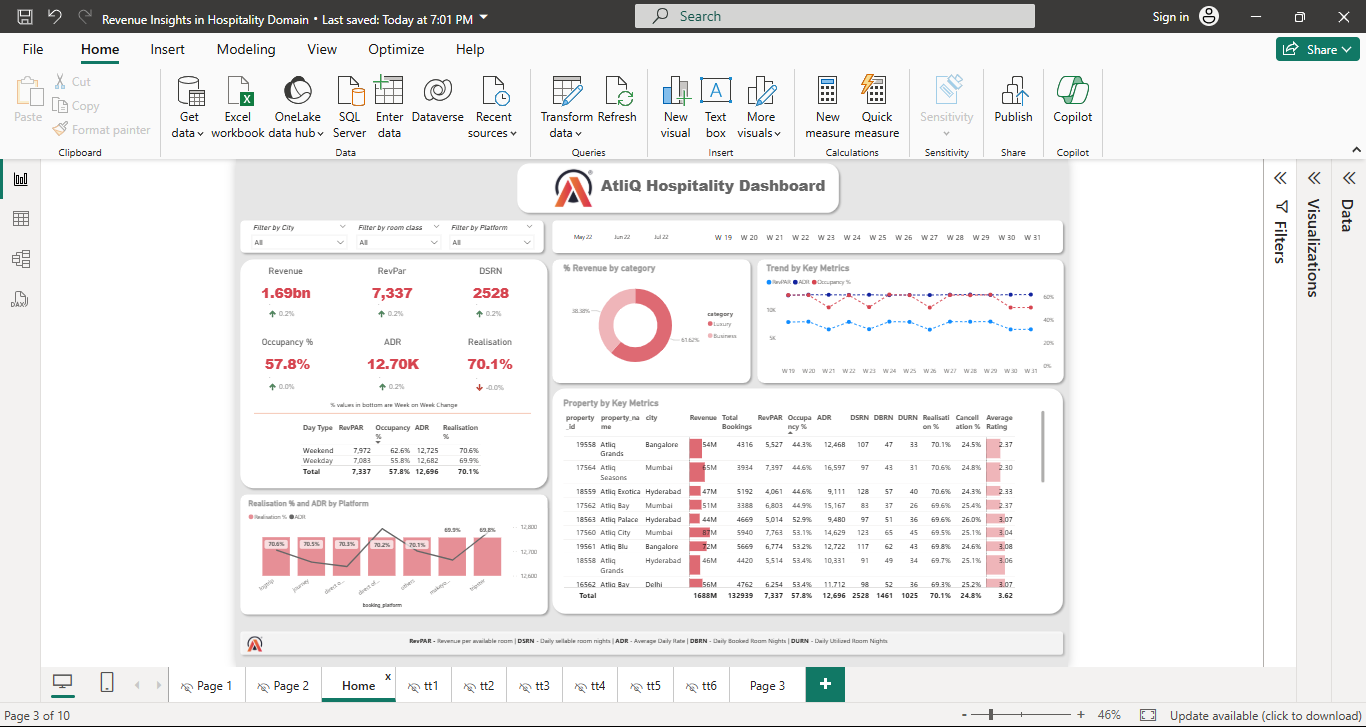

Layout of this report page (visuals, bound fields, positions):
{"tool":"powerbi","page":{"name":"Home","canvas":[1800,1100],"ordinal":2},"visuals":[{"type":"shape","box":[0.2,123.6,675.2,88.8],"z":0},{"type":"shape","box":[676,122.7,1124,89.3],"z":1000},{"type":"shape","box":[676,488,1124,506.7],"z":2000},{"type":"shape","box":[675.1,208.6,447.6,286.1],"z":3000},{"type":"shape","box":[1118.6,208.6,681.7,286.1],"z":4000},{"type":"shape","box":[0.2,207,683.4,513.9],"z":5000},{"type":"slicer","fields":{"Values":["dim_rooms.room_class"]},"box":[250.7,133.3,202.7,72],"z":6000},{"type":"slicer","fields":{"Values":["dim_hotels.city"]},"box":[24,134.7,226.7,76],"z":7000},{"type":"slicer","fields":{"Values":["dim_date.mmm yy"]},"box":[683.6,145.5,302.1,47.8],"z":8000},{"type":"card","title":"Revenue","fields":{"Values":["key_measures.Revenue"]},"box":[30.7,230.7,154.7,95.8],"z":8000,"group":"g2"},{"type":"card","title":"RevPar","fields":{"Values":["key_measures.Rev Par"]},"box":[257.9,230.7,160.2,95.8],"z":9000,"group":"g2"},{"type":"card","title":"Occupancy %","fields":{"Values":["key_measures.Occupancy %"]},"box":[14.7,386.3,192,96],"z":9000,"group":"g1"},{"type":"tableEx","title":"Property by Key Metrics","fields":{"Values":["dim_hotels.property_id","dim_hotels.property_name","dim_hotels.city","key_measures.Revenue","key_measures.Total Bookings","key_measures.Rev Par","key_measures.Occupancy %","key_measures.ADR","key_measures.DSRN","key_measures.DBRN","key_measures.DURN","key_measures.Realisation %"]},"box":[704,517.3,1053.3,445.3],"z":9000},{"type":"lineChart","title":"Trend by Key Metrics","fields":{"Category":["dim_date.mmm yy.Variation.Date Hierarchy.Month","dim_date.week no"],"Y2":["key_measures.Occupancy %"],"Y":["key_measures.Rev Par","key_measures.ADR"]},"box":[1142.7,225.3,633.3,252],"z":10000},{"type":"card","title":"DSRN","fields":{"Values":["key_measures.DSRN"]},"box":[456.5,231.1,189.3,96],"z":11000,"group":"g2"},{"type":"tableEx","fields":{"Values":["dim_date.day type","key_measures.Rev Par","key_measures.Occupancy %","key_measures.ADR","key_measures.Realisation %"]},"box":[135.1,564.9,437.2,129.8],"z":11000},{"type":"card","title":"ADR","fields":{"Values":["key_measures.ADR"]},"box":[241.4,385.9,193.3,96],"z":12000,"group":"g1"},{"type":"shape","box":[0,716,684,278.7],"z":12000},{"type":"card","title":"Realisation","fields":{"Values":["key_measures.Realisation %"]},"box":[452.5,386.8,194.7,96],"z":13000,"group":"g1"},{"type":"lineStackedColumnComboChart","title":"Realisation % and ADR by Platform","fields":{"Category":["fact_bookings.booking_platform"],"Y":["key_measures.Realisation %"],"Y2":["key_measures.ADR"]},"box":[21.3,736,634.7,241.3],"z":13000},{"type":"slicer","fields":{"Values":["dim_date.week no"]},"box":[1002.7,145.3,773.3,48],"z":14000},{"type":"shape","box":[0,1013.3,1800,69.3],"z":15000},{"type":"group","id":"g1","title":"Group 1","box":[14.7,385.9,632.4,96.9],"z":16000},{"type":"image","box":[0,1028,81.3,42.7],"z":17000},{"type":"slicer","fields":{"Values":["fact_bookings.booking_platform"]},"box":[453.3,134.7,202.7,72],"z":18000},{"type":"group","id":"g2","title":"Group 2","box":[30.7,230.7,615.1,96.4],"z":19000},{"type":"tableEx","fields":{"Values":["key_measures.Revpar WoW change %"]},"box":[296,297.3,92,58.7],"z":20000},{"type":"textbox","box":[345,1029.6,1093.6,39],"z":21000},{"type":"shape","box":[38.7,542.7,600,14.7],"z":22000},{"type":"tableEx","fields":{"Values":["key_measures.Revpar WoW change %"]},"box":[61.3,297.3,92,58.7],"z":23000},{"type":"tableEx","fields":{"Values":["key_measures.Revpar WoW change %"]},"box":[509.3,297.3,92,58.7],"z":24000},{"type":"donutChart","title":"% Revenue by category","fields":{"Category":["dim_hotels.category"],"Y":["key_measures.Revenue"]},"box":[704,225.3,396,248],"z":25000},{"type":"group","id":"g3","title":"Group 3","box":[61.3,454.3,540,60],"z":26000},{"type":"tableEx","fields":{"Values":["key_measures.Occupancy WoW change %"]},"box":[61.3,454.3,92,58.7],"z":27000,"group":"g3"},{"type":"textbox","box":[200,517.3,308,33.3],"z":27000},{"type":"shape","box":[599.8,0,714.6,125.6],"z":28000},{"type":"tableEx","fields":{"Values":["key_measures.ADR WoW change %"]},"box":[298.6,454.3,92,58.7],"z":28000,"group":"g3"},{"type":"image","box":[684.3,13,95.3,99.6],"z":29000},{"type":"tableEx","fields":{"Values":["key_measures.Realisation WoW change %"]},"box":[509.3,455.6,92,58.7],"z":29000,"group":"g3"},{"type":"textbox","box":[773,30.3,519.7,65],"z":29001}]}

Visuals, with their boxes on the page's 1800x1100 design canvas (x1, y1, x2, y2). These are canvas units, not pixel positions in the 1366x727 screenshot, which may show the page scaled, cropped or inside an application window:
shape: box=[0, 124, 675, 212]
shape: box=[676, 123, 1800, 212]
shape: box=[676, 488, 1800, 995]
shape: box=[675, 209, 1123, 495]
shape: box=[1119, 209, 1800, 495]
shape: box=[0, 207, 684, 721]
slicer - dim_rooms.room_class: box=[251, 133, 453, 205]
slicer - dim_hotels.city: box=[24, 135, 251, 211]
slicer - dim_date.mmm yy: box=[684, 146, 986, 193]
"Revenue" card: box=[31, 231, 185, 326]
"RevPar" card: box=[258, 231, 418, 326]
"Occupancy %" card: box=[15, 386, 207, 482]
"Property by Key Metrics" tableEx: box=[704, 517, 1757, 963]
"Trend by Key Metrics" lineChart: box=[1143, 225, 1776, 477]
"DSRN" card: box=[456, 231, 646, 327]
tableEx - dim_date.day type x key_measures.Rev Par: box=[135, 565, 572, 695]
"ADR" card: box=[241, 386, 435, 482]
shape: box=[0, 716, 684, 995]
"Realisation" card: box=[452, 387, 647, 483]
"Realisation % and ADR by Platform" lineStackedColumnComboChart: box=[21, 736, 656, 977]
slicer - dim_date.week no: box=[1003, 145, 1776, 193]
shape: box=[0, 1013, 1800, 1083]
"Group 1" group: box=[15, 386, 647, 483]
image: box=[0, 1028, 81, 1071]
slicer - fact_bookings.booking_platform: box=[453, 135, 656, 207]
"Group 2" group: box=[31, 231, 646, 327]
tableEx - key_measures.Revpar WoW change %: box=[296, 297, 388, 356]
textbox: box=[345, 1030, 1439, 1069]
shape: box=[39, 543, 639, 557]
tableEx - key_measures.Revpar WoW change %: box=[61, 297, 153, 356]
tableEx - key_measures.Revpar WoW change %: box=[509, 297, 601, 356]
"% Revenue by category" donutChart: box=[704, 225, 1100, 473]
"Group 3" group: box=[61, 454, 601, 514]
tableEx - key_measures.Occupancy WoW change %: box=[61, 454, 153, 513]
textbox: box=[200, 517, 508, 551]
shape: box=[600, 0, 1314, 126]
tableEx - key_measures.ADR WoW change %: box=[299, 454, 391, 513]
image: box=[684, 13, 780, 113]
tableEx - key_measures.Realisation WoW change %: box=[509, 456, 601, 514]
textbox: box=[773, 30, 1293, 95]
